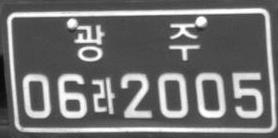0: (156, 71, 189, 119), (194, 71, 227, 118), (21, 72, 51, 118)
2: (120, 72, 152, 118)
5: (231, 70, 264, 119)
6: (57, 72, 88, 119)
광주_D: (73, 22, 200, 62)
라: (91, 76, 115, 114)
